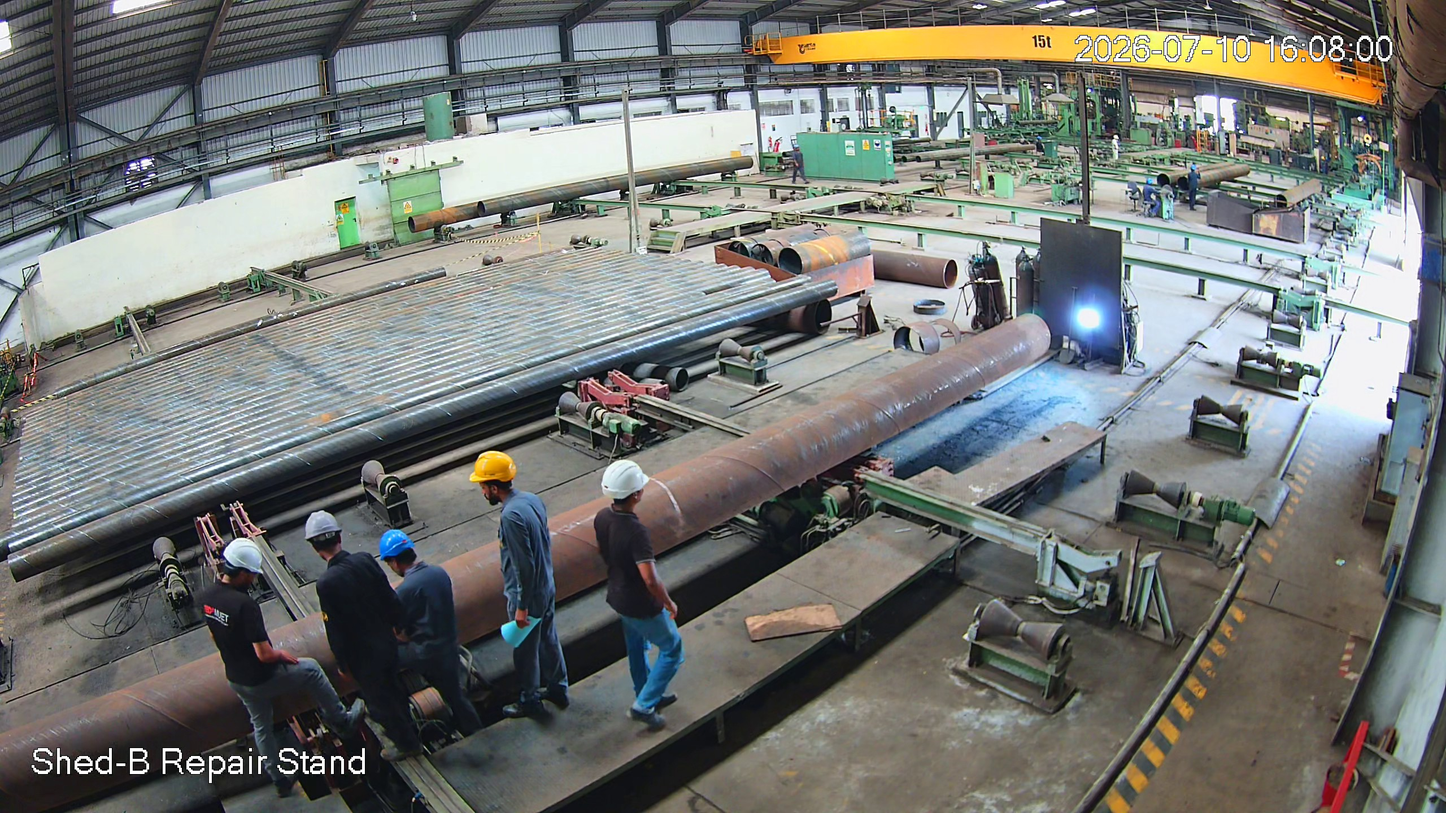Helmet: (214, 520, 279, 625), (598, 453, 661, 549), (465, 435, 526, 515), (296, 502, 360, 576), (377, 515, 419, 598)
Person: (463, 448, 576, 735), (198, 533, 321, 793), (300, 510, 412, 775), (586, 462, 686, 744), (380, 521, 449, 754)
